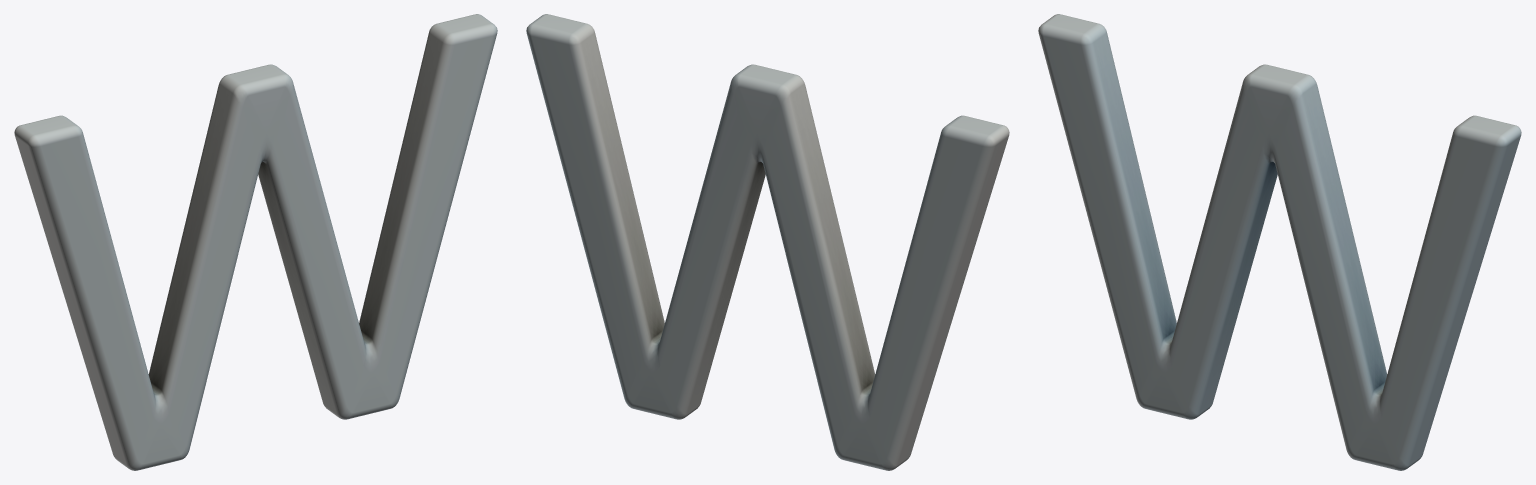
Rendered from modelW.glb.
3 renders of one model, left to right at view 1: azimuth 30°, elevation 25°; view 2: azimuth 150°, elevation 25°; view 3: azimuth 330°, elevation 25°, orthographic.
Parts seen in each view (by area): view 1: w.1; view 2: w.1; view 3: w.1.
Part boxes in pixels (x1,y1,x2,y2): w.1: (14,14,497,470); w.1: (526,14,1009,470); w.1: (1038,14,1521,470).
Size of the model in its own units: 0.2822 by 0.2071 by 0.0223.
Materials: 1 (1 with a texture image).
